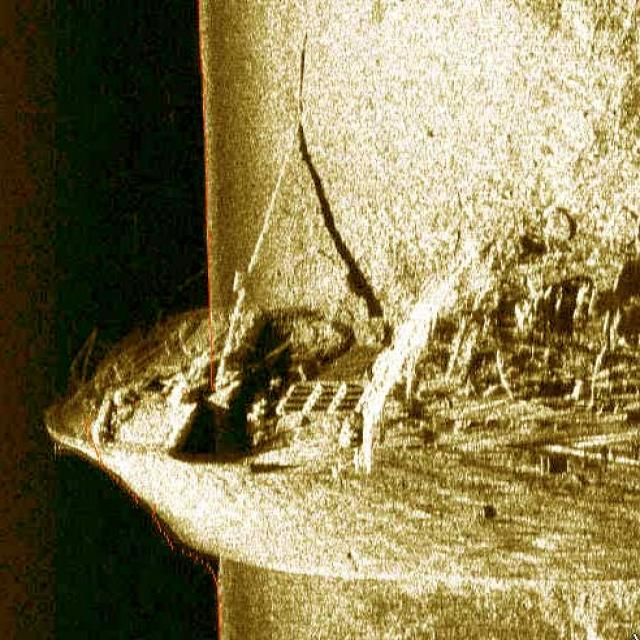ship: (48, 230, 640, 520)
